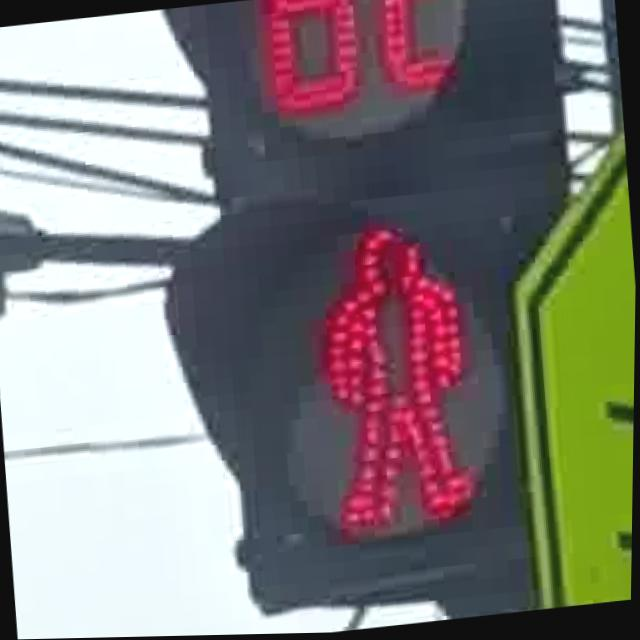red_light: (288, 194, 497, 549)
